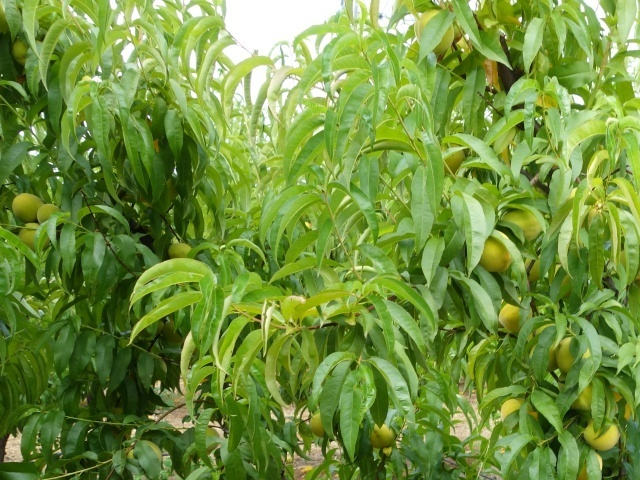peach: (407, 8, 455, 60), (479, 229, 518, 276), (551, 336, 596, 375), (493, 298, 538, 333), (580, 417, 621, 454), (5, 190, 46, 223), (11, 221, 50, 250), (363, 420, 397, 453), (497, 393, 528, 421), (33, 200, 65, 227), (163, 239, 192, 263), (307, 411, 331, 439)
